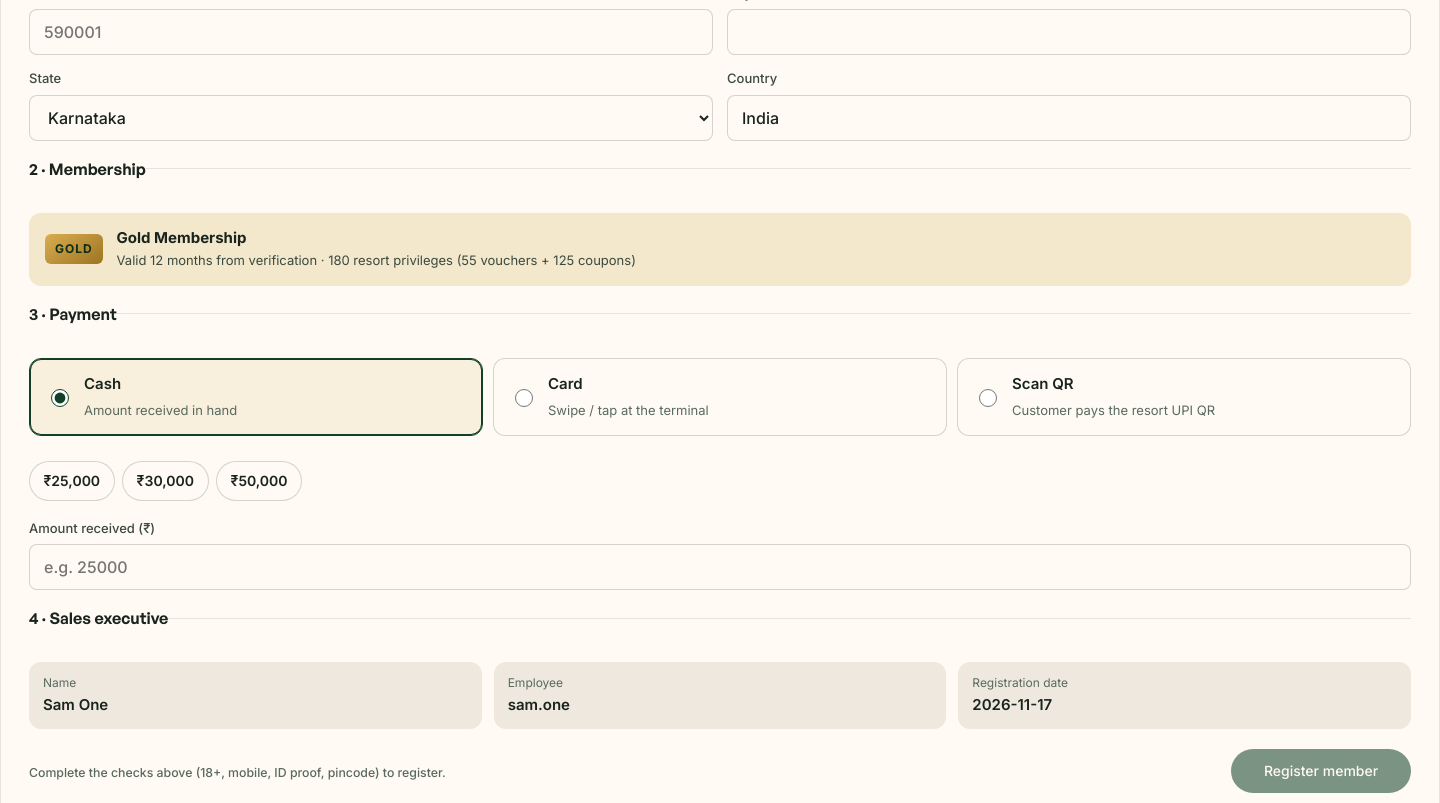
Memberships — Sales Executive › asks for a transaction ID only for card
This screenshot has width=1440, height=803.
(page scrolled)
Expected: the field labelled "Transaction ID" is not shown
Click the radio button labelled "Card Swipe / tap at the terminal" at (524, 398), box [515, 389, 533, 407]
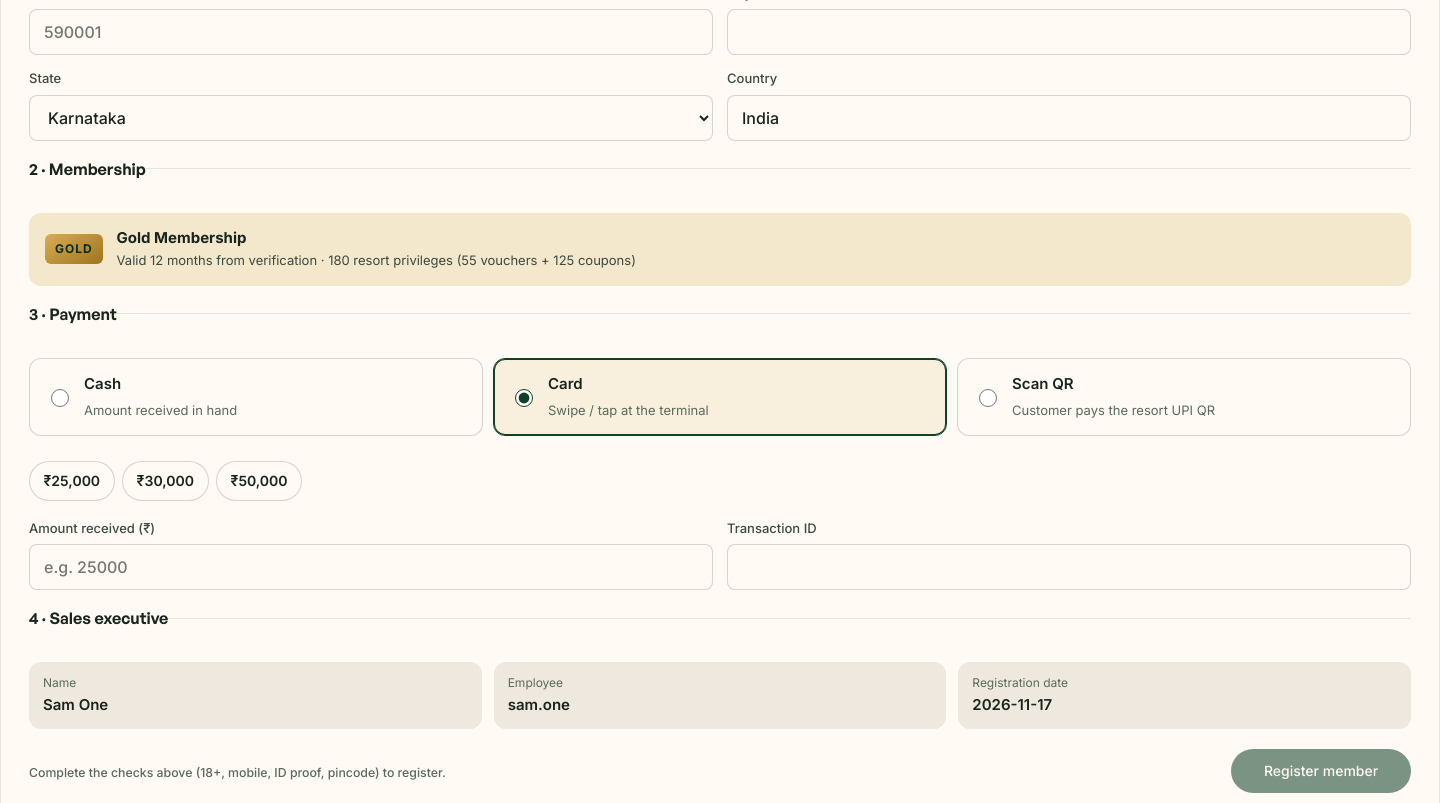
Expected: the field labelled "Transaction ID" is shown, [727, 544, 1411, 590]
